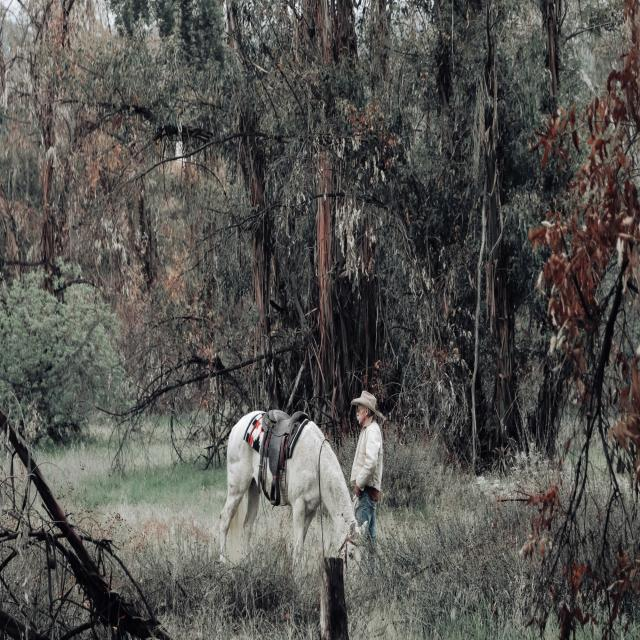adult: (348, 390, 382, 550)
